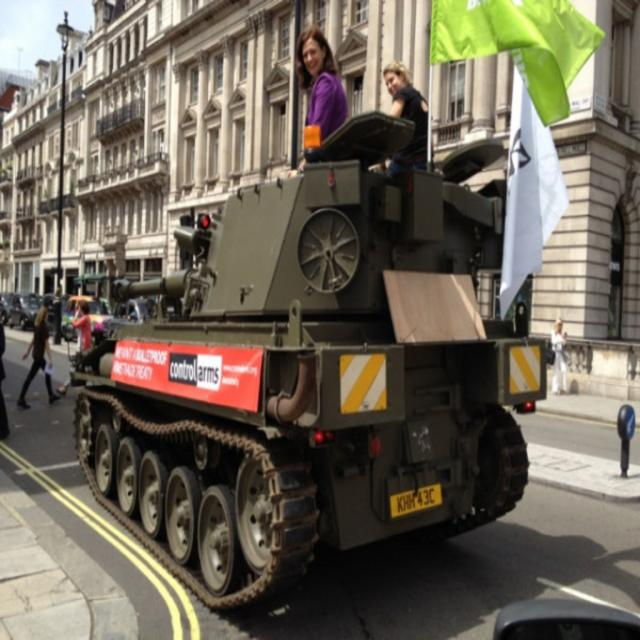tank: (67, 0, 555, 610)
